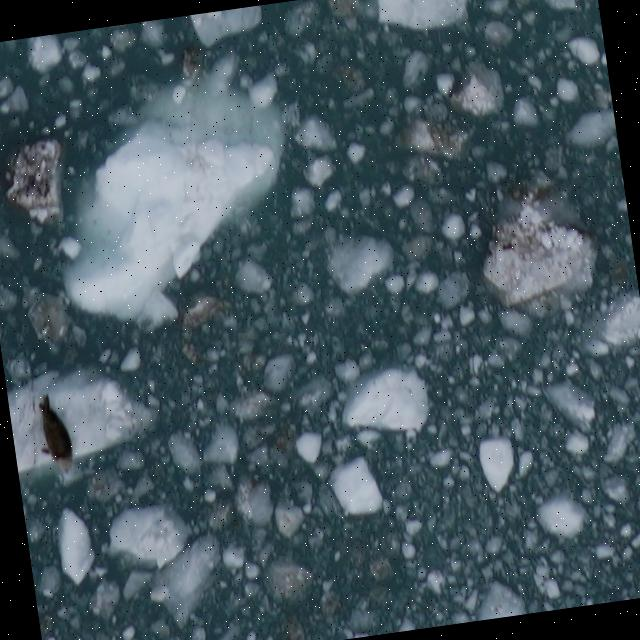seal: (31, 389, 79, 479)
